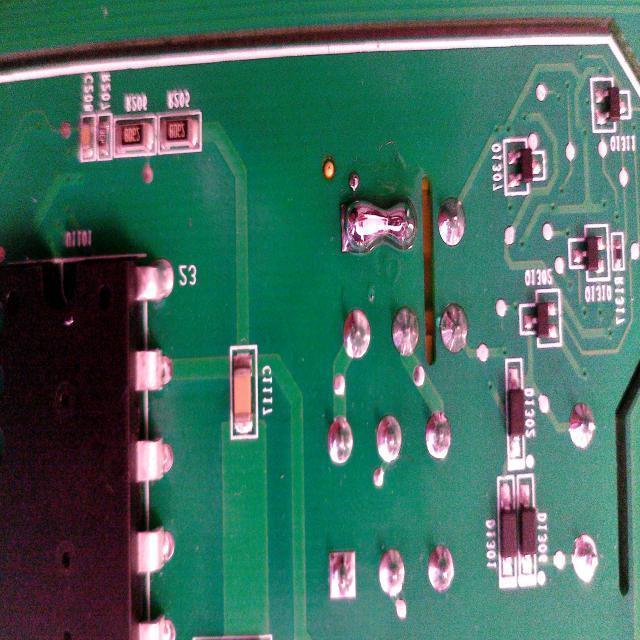Soldering bridge: (337, 192, 419, 258)
